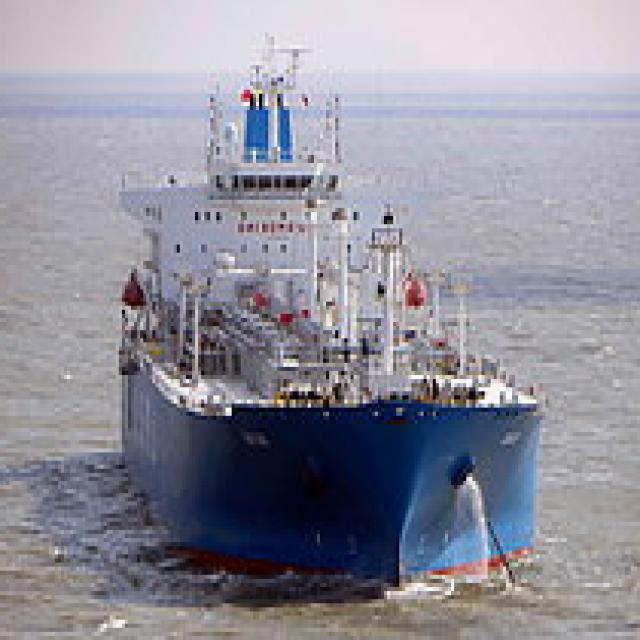Tanker: (119, 28, 548, 583)
